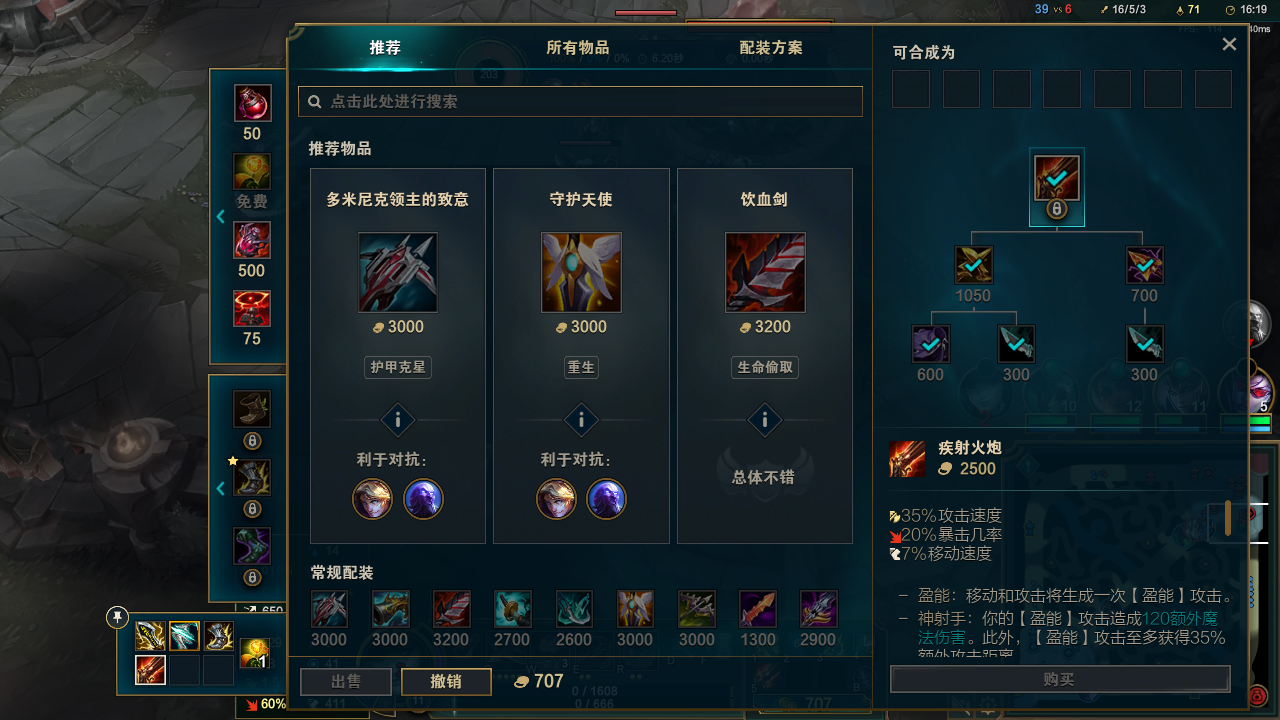GTH: (362, 390, 434, 440), (734, 396, 802, 444), (551, 399, 611, 438)
TJJM: (326, 29, 438, 69)
